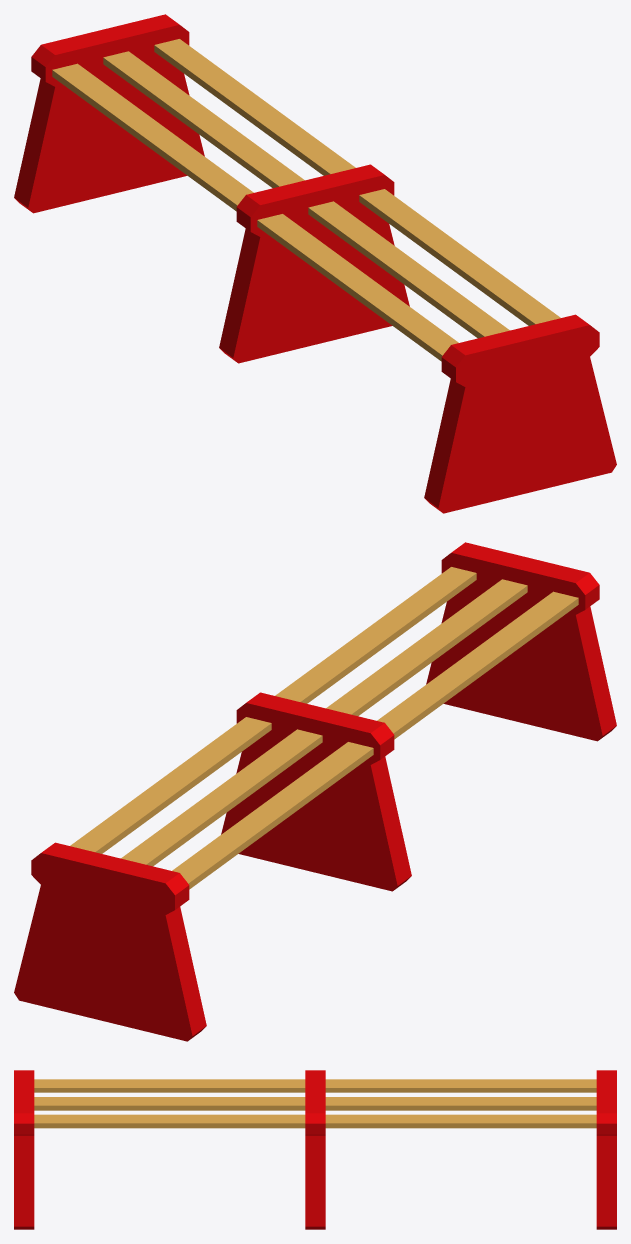
The model's file is Tempatduduk.fbx.
The picture shows the model from 3 angles, top to bottom: view 1: azimuth 30°, elevation 25°; view 2: azimuth 150°, elevation 25°; view 3: azimuth 270°, elevation 25°; orthographic projection. The views are drawn at different scales.
Visible parts, largest first — view 1: TempatDuduk; view 2: TempatDuduk; view 3: TempatDuduk.
Boxes of the visible parts, <box> form: TempatDuduk: <box>14,14,616,513</box>; TempatDuduk: <box>14,542,616,1041</box>; TempatDuduk: <box>14,1070,616,1229</box>.
Bounding box in the file's own units: 381 × 312 × 1570.
